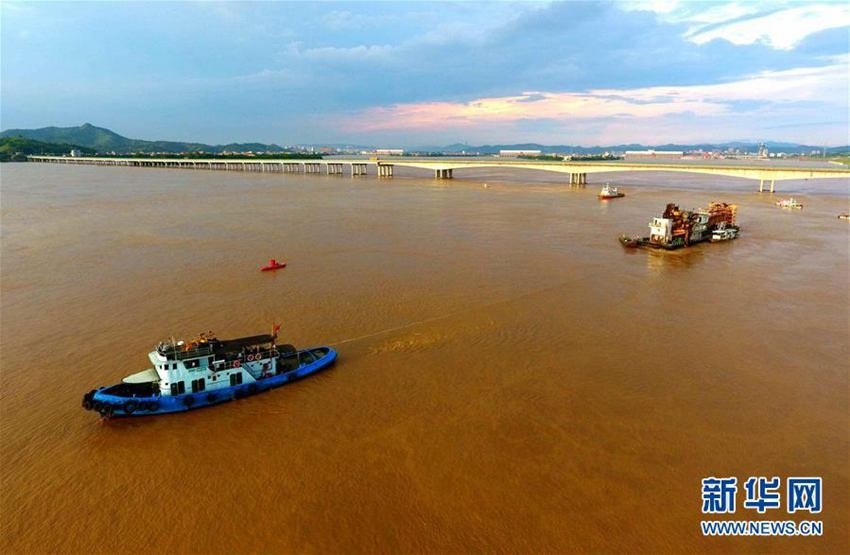otherboat: (83, 327, 338, 421), (618, 195, 741, 258), (595, 182, 627, 202)
